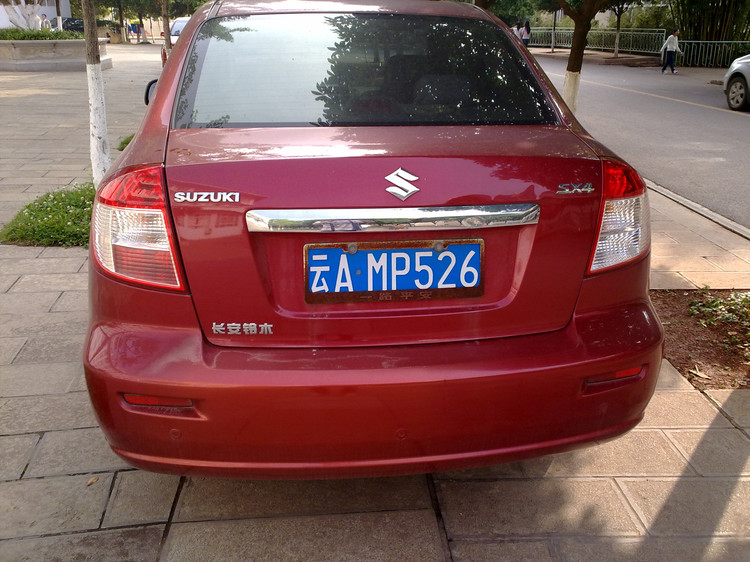plate_number: (306, 241, 483, 292)
